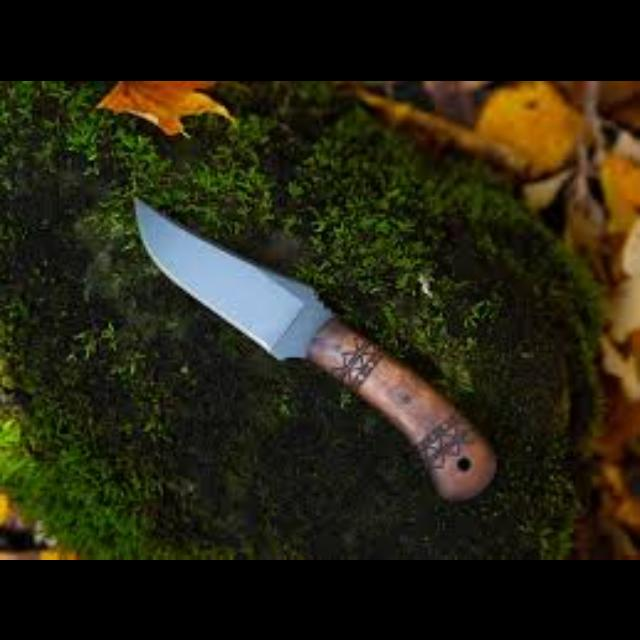Knife: (132, 194, 496, 500)
